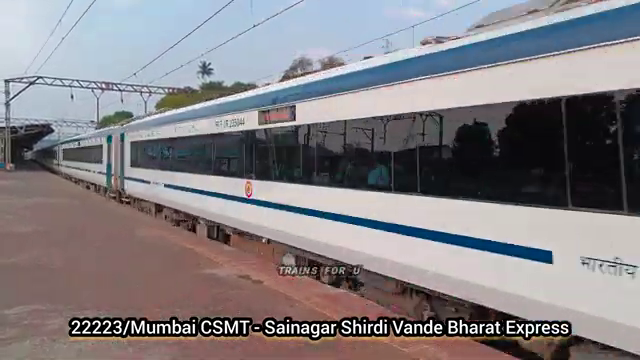Boogie: (214, 115, 249, 131)
